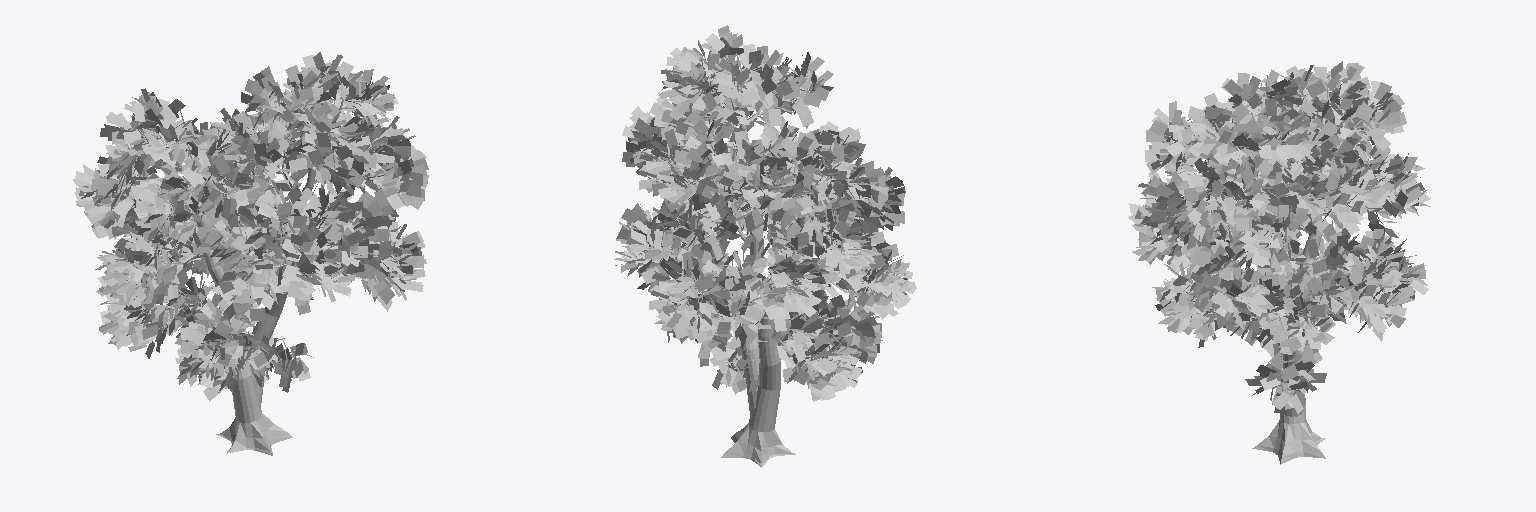
File: Double4.obj
3 renders of one model, left to right at view 1: azimuth 30°, elevation 25°; view 2: azimuth 150°, elevation 25°; view 3: azimuth 270°, elevation 25°, orthographic.
Visible parts, largest first — view 1: Tree_Druid_12, Tree_Druid2, Tree_Druid9, Tree_Druid_19; view 2: Tree_Druid2, Tree_Druid_12, Tree_Druid9, Tree_Druid_19; view 3: Tree_Druid_12, Tree_Druid2, Tree_Druid9.
Boxes of the visible parts, <box> form: Tree_Druid_12: <box>166,52,428,345</box>; Tree_Druid2: <box>73,88,313,401</box>; Tree_Druid9: <box>138,130,292,455</box>; Tree_Druid_19: <box>249,86,347,408</box>; Tree_Druid2: <box>654,121,916,401</box>; Tree_Druid_12: <box>614,25,862,360</box>; Tree_Druid9: <box>721,164,838,467</box>; Tree_Druid_19: <box>725,56,763,417</box>; Tree_Druid_12: <box>1128,69,1403,362</box>; Tree_Druid2: <box>1211,61,1430,413</box>; Tree_Druid9: <box>1252,78,1328,464</box>.
Size of the model in its own units: 34.89 by 43.17 by 31.24.